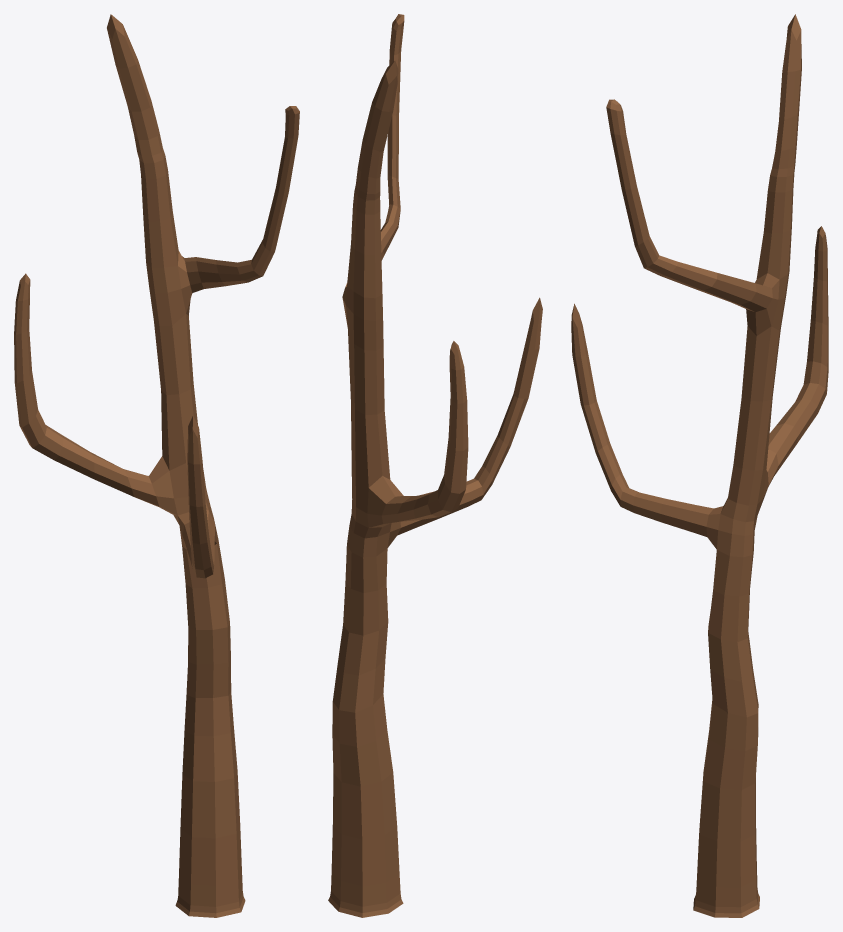
The model's file is nature-commontree-dead-3.glb.
The picture shows the model from 3 angles, left to right: view 1: azimuth 30°, elevation 25°; view 2: azimuth 150°, elevation 25°; view 3: azimuth 270°, elevation 25°; orthographic projection. The views are drawn at different scales.
Visible parts, largest first — view 1: CommonTree_Dead_3; view 2: CommonTree_Dead_3; view 3: CommonTree_Dead_3.
Boxes of the visible parts, x1,y1,x2,y2 form: CommonTree_Dead_3: (14, 14, 299, 917); CommonTree_Dead_3: (328, 14, 542, 917); CommonTree_Dead_3: (571, 14, 828, 917).
Size of the model in its own units: 63.52 by 300 by 81.25.
